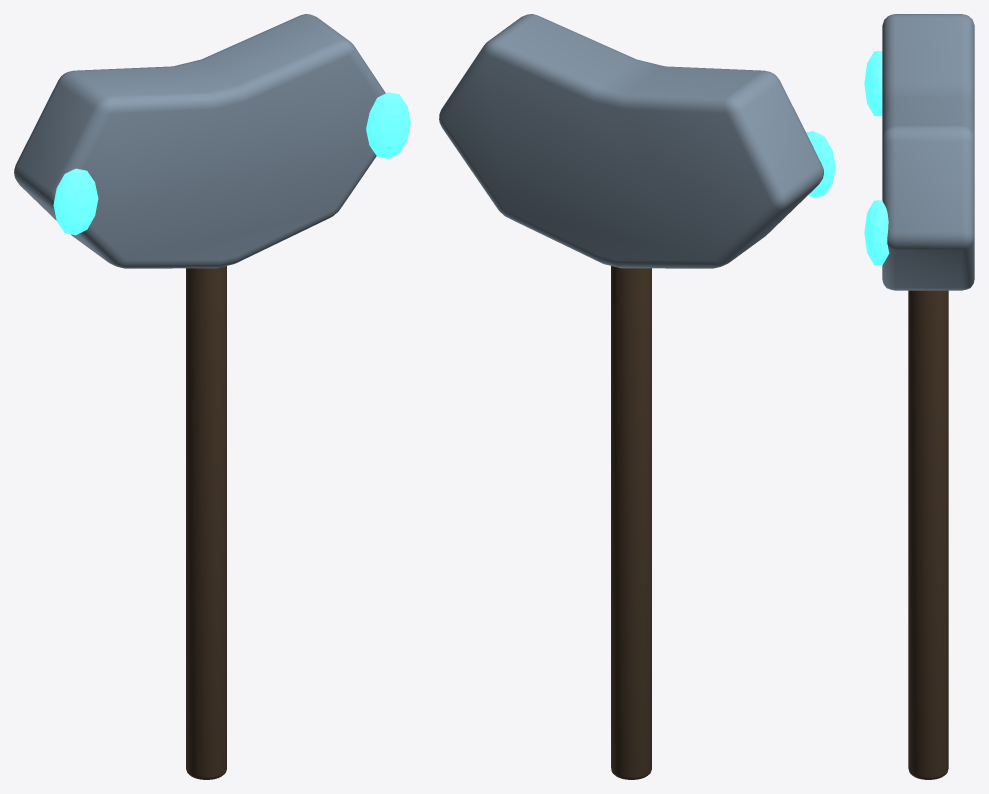
The model's file is axe_v3.glb.
The picture shows the model from 3 angles, left to right: view 1: azimuth 30°, elevation 25°; view 2: azimuth 150°, elevation 25°; view 3: azimuth 270°, elevation 25°; orthographic projection. The views are drawn at different scales.
Parts seen in each view (by area): view 1: DOUBLE_AXE_HEAD_PRIMARY, HAFT_SECONDARY, AXE_RUNE_EMISSIVE, AXE_RUNE_EMISSIVE.001; view 2: DOUBLE_AXE_HEAD_PRIMARY, HAFT_SECONDARY, AXE_RUNE_EMISSIVE; view 3: DOUBLE_AXE_HEAD_PRIMARY, HAFT_SECONDARY, AXE_RUNE_EMISSIVE.001, AXE_RUNE_EMISSIVE.
Part boxes in pixels (x1,y1,x2,y2): DOUBLE_AXE_HEAD_PRIMARY: (14, 14, 385, 268); HAFT_SECONDARY: (186, 266, 226, 779); AXE_RUNE_EMISSIVE: (53, 168, 98, 235); AXE_RUNE_EMISSIVE.001: (366, 92, 410, 158); DOUBLE_AXE_HEAD_PRIMARY: (439, 14, 823, 268); HAFT_SECONDARY: (611, 266, 651, 779); AXE_RUNE_EMISSIVE: (806, 131, 835, 197); DOUBLE_AXE_HEAD_PRIMARY: (882, 14, 974, 290); HAFT_SECONDARY: (908, 290, 948, 779); AXE_RUNE_EMISSIVE.001: (864, 200, 889, 265); AXE_RUNE_EMISSIVE: (864, 51, 882, 116).
Bounding box in the file's own units: 1.99 × 3.86 × 0.55.
